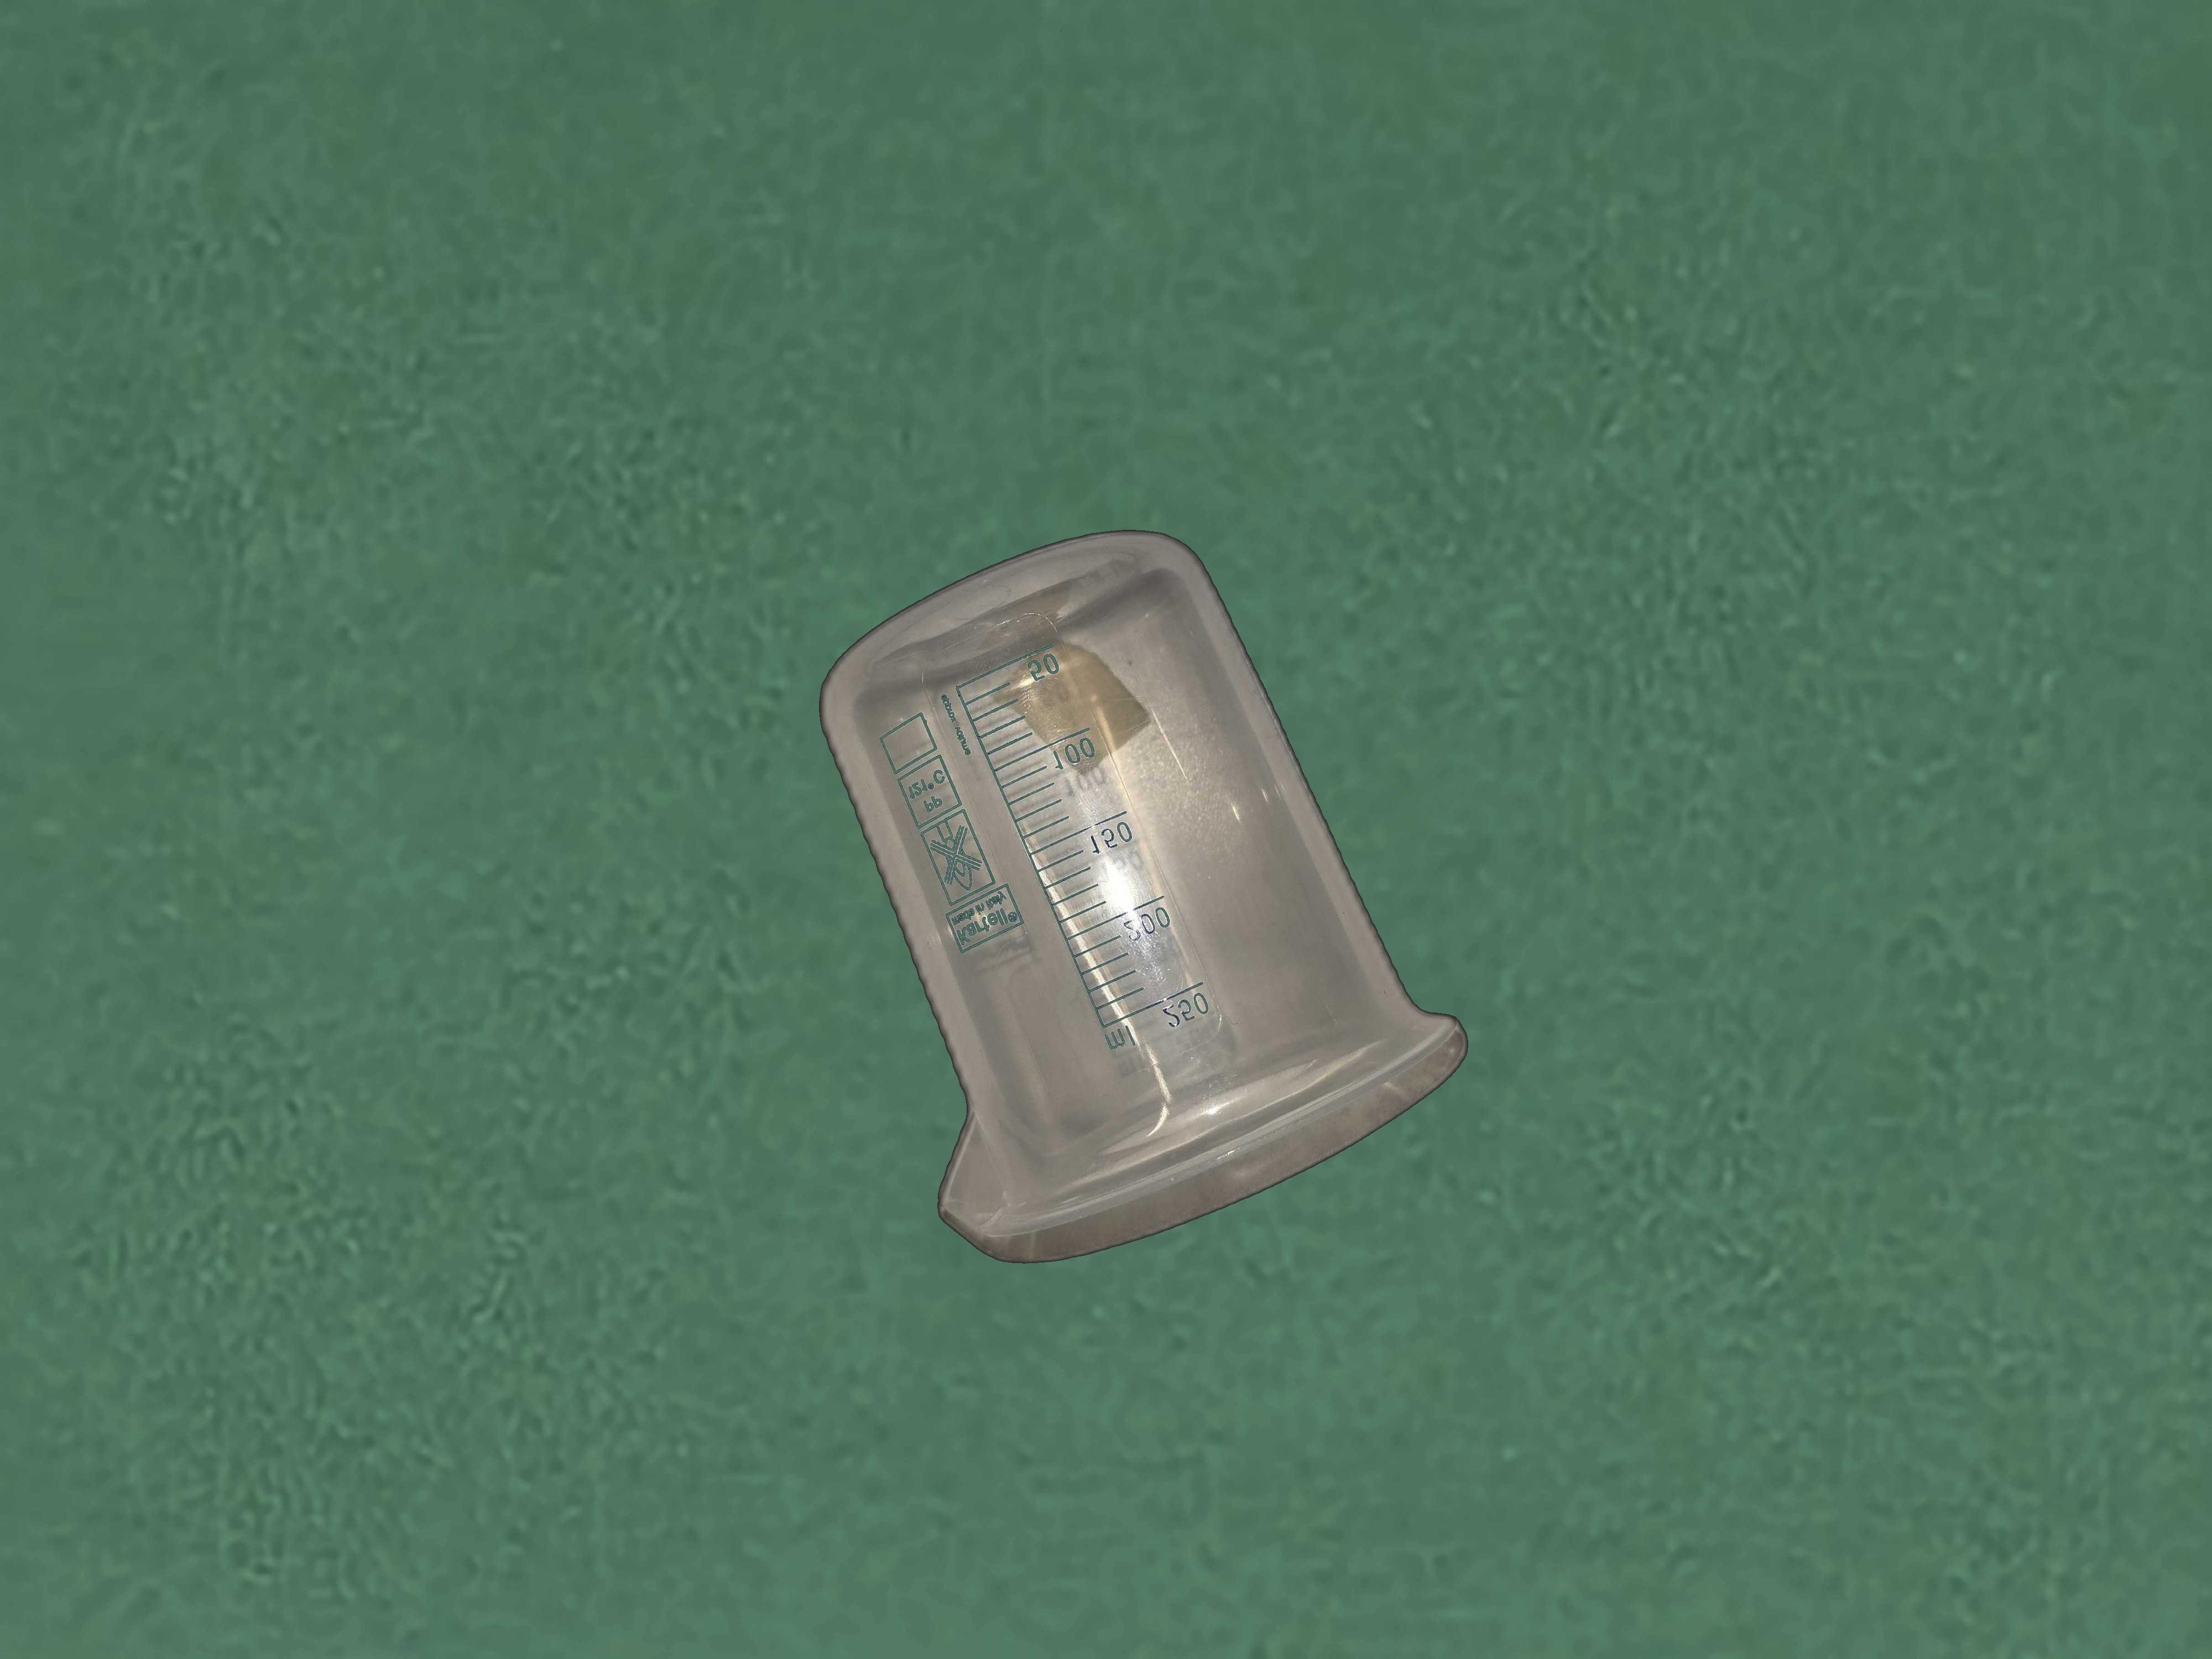becker: (817, 530, 1470, 1269)
